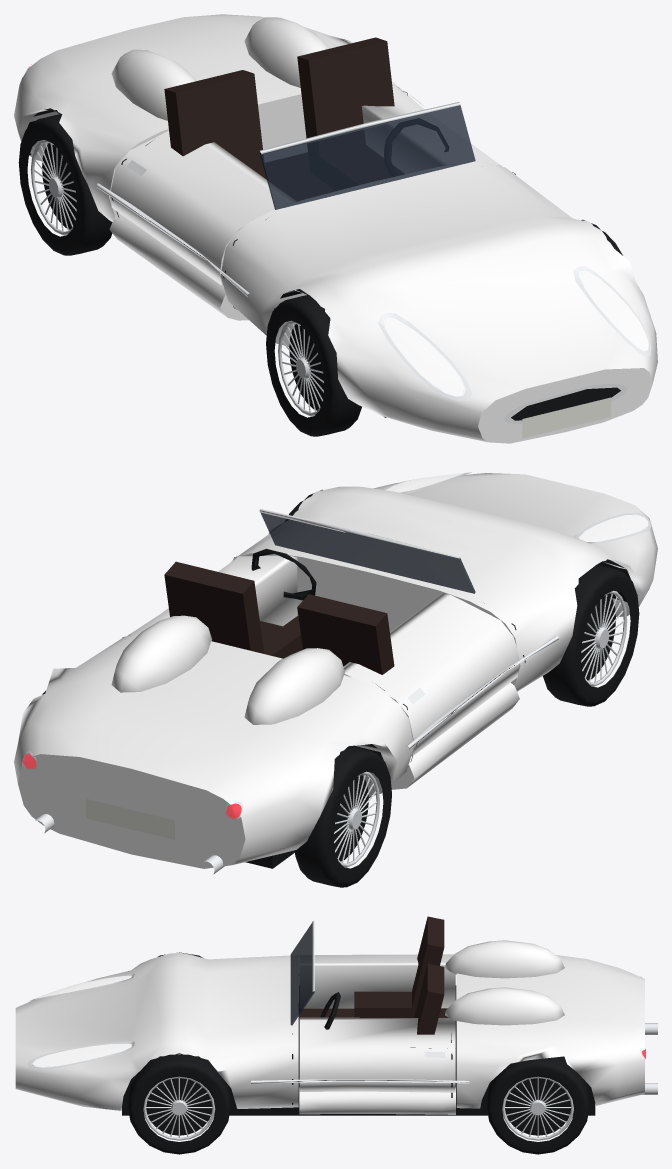
File: harlan_duchess.lod.glb
The picture shows the model from 3 angles, top to bottom: view 1: azimuth 30°, elevation 25°; view 2: azimuth 150°, elevation 25°; view 3: azimuth 270°, elevation 25°; orthographic projection. The views are drawn at different scales.
Parts seen in each view (by area): view 1: body_paint, body_trim, body_glass, tire (×2), body_chrome, headlights, rim (×2), rim_back (×2); view 2: body_paint, body_trim, tire (×2), body_glass, rim (×2), body_chrome, rim_back (×2), headlights; view 3: body_paint, door_paint, tire (×2), body_trim, rim_back (×2), rim (×2), body_chrome, headlights, body_glass.
Part boxes in pixels (box(x1,y1,x2,y2)): body_paint: box(14, 14, 657, 443); body_trim: box(27, 37, 620, 438); body_glass: box(259, 105, 475, 209); tire (×2): box(18, 114, 361, 436); body_chrome: box(25, 67, 651, 423); headlights: box(384, 271, 648, 396); rim (×2): box(30, 140, 323, 416); rim_back (×2): box(42, 143, 324, 410); body_paint: box(14, 473, 657, 868); body_trim: box(86, 489, 630, 868); tire (×2): box(294, 565, 639, 887); body_glass: box(260, 512, 475, 593); rim (×2): box(334, 590, 627, 867); body_chrome: box(22, 472, 651, 874); rim_back (×2): box(333, 594, 615, 861); headlights: box(385, 473, 648, 541); body_paint: box(15, 940, 644, 1114); door_paint: box(299, 1010, 455, 1114); tire (×2): box(128, 1054, 589, 1154); body_trim: box(122, 916, 595, 1115); rim_back (×2): box(146, 1078, 571, 1135); rim (×2): box(143, 1076, 573, 1140); body_chrome: box(27, 920, 657, 1094); headlights: box(32, 975, 131, 1067); body_glass: box(290, 923, 314, 1025).
Bounding box in the file's own units: 1.85 × 1.14 × 4.5.
